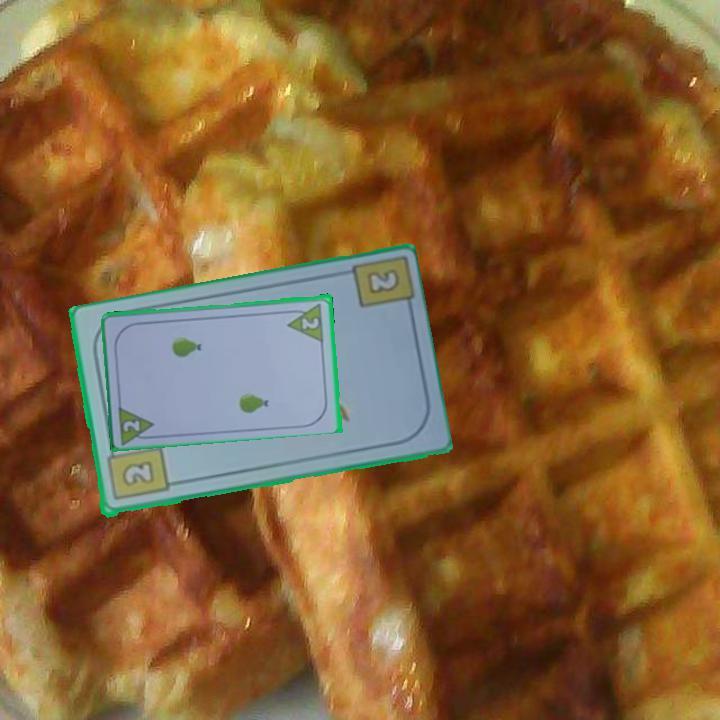2b: (103, 442, 171, 504), (362, 265, 403, 298)
2p: (119, 416, 143, 434), (299, 314, 322, 332)
